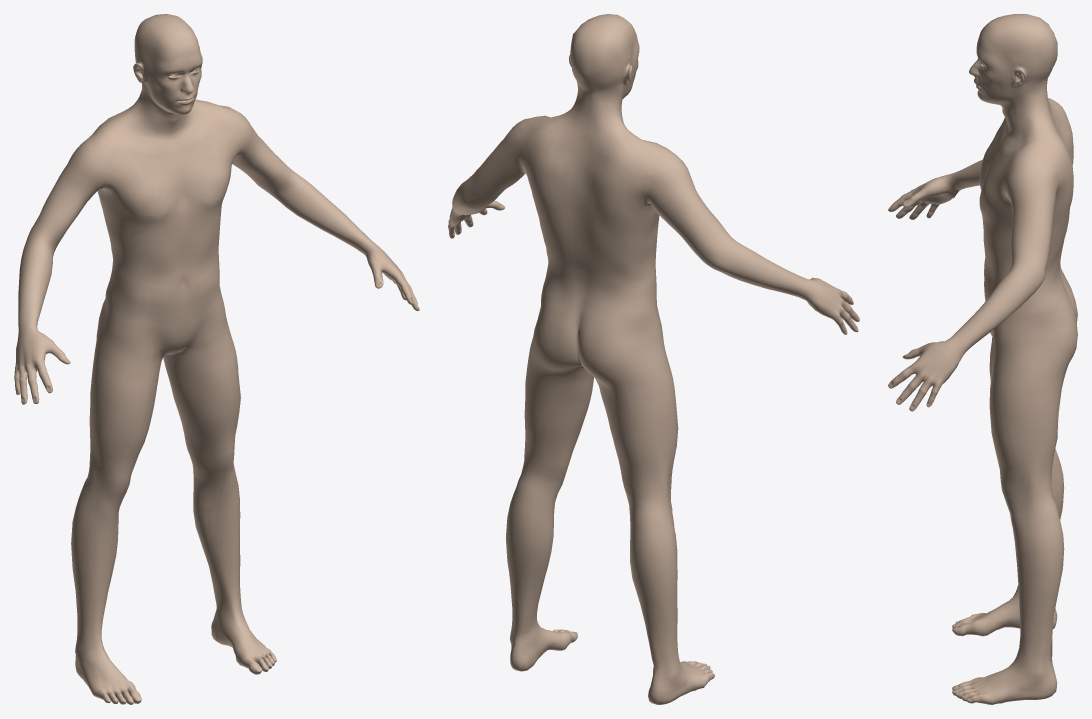
The model's file is MakeHuman_CC0_male_clean_baseline.glb.
The picture shows the model from 3 angles, left to right: view 1: azimuth 30°, elevation 25°; view 2: azimuth 150°, elevation 25°; view 3: azimuth 270°, elevation 25°; orthographic projection.
Visible parts, largest first — view 1: Male_anatomy_master; view 2: Male_anatomy_master; view 3: Male_anatomy_master.
Boxes of the visible parts, box(x1,y1,x2,y2) form: Male_anatomy_master: box(14, 14, 419, 704); Male_anatomy_master: box(448, 14, 859, 704); Male_anatomy_master: box(888, 14, 1077, 704).
Size of the model in its own units: 1.14 by 1.78 by 0.4731.
